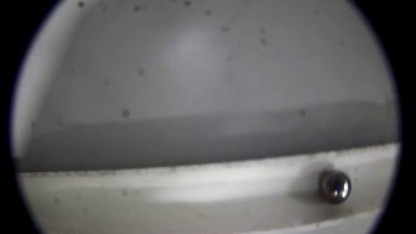gangzhu: (319, 169, 352, 204)
